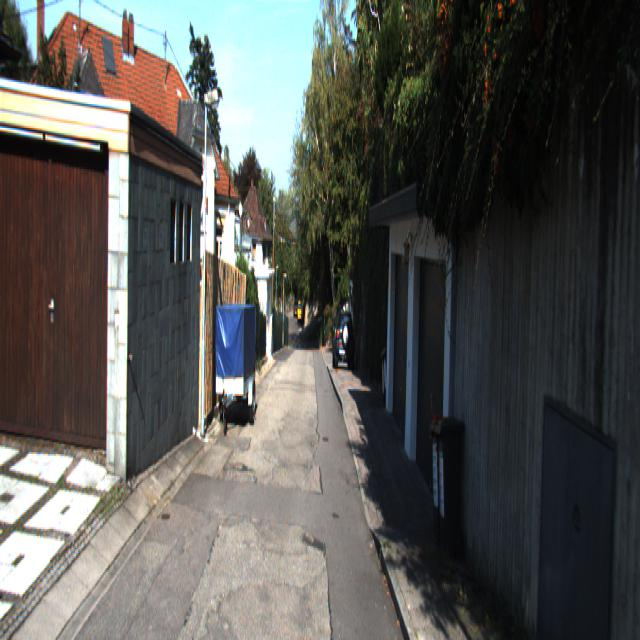Car: (215, 303, 256, 436), (332, 308, 356, 370)
